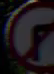Don't turn right: (15, 12, 53, 58)
